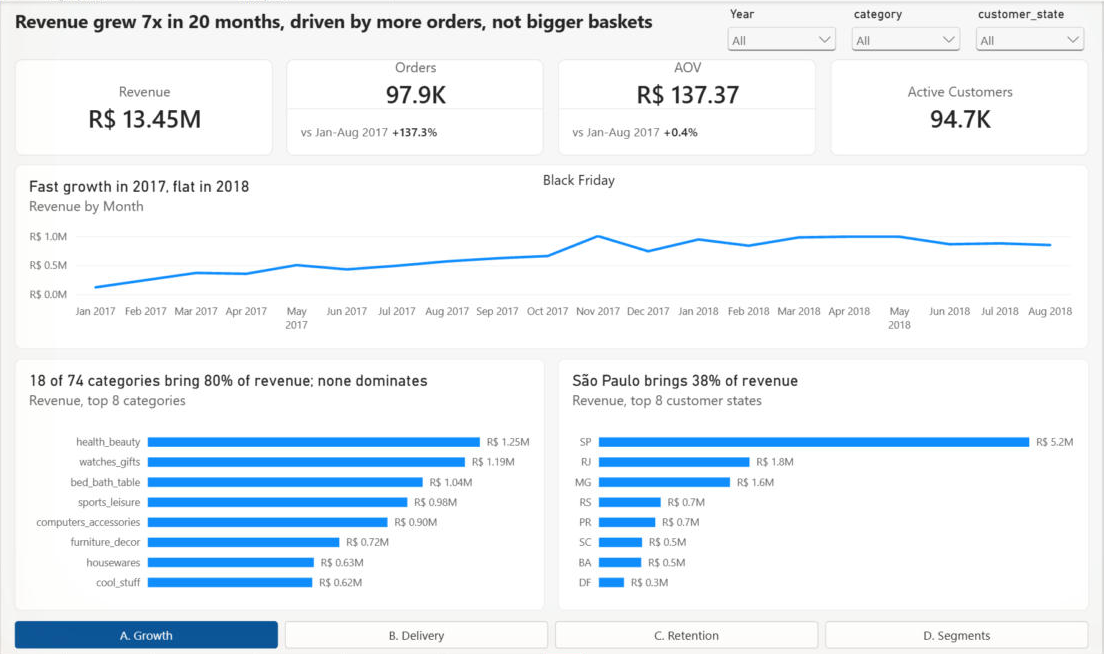

The page's visual inventory and layout, read from the dashboard file:
{"tool":"powerbi","page":{"name":"A. Growth","canvas":[1280,760],"ordinal":1},"visuals":[{"type":"textbox","box":[16,8,820,50],"z":0},{"type":"cardVisual","fields":{"Data":["_Measures.Revenue"]},"box":[15.8,67.3,300.7,112.1],"z":1000},{"type":"cardVisual","fields":{"Data":["_Measures.Orders"]},"box":[332.3,67.3,299.3,112.1],"z":2000},{"type":"cardVisual","fields":{"Data":["_Measures.AOV"]},"box":[647.5,67.3,300.7,112.1],"z":3000},{"type":"cardVisual","fields":{"Data":["_Measures.Active Customers"]},"box":[964,67.3,300.7,112.1],"z":4000},{"type":"lineChart","title":"Fast growth in 2017, flat in 2018","fields":{"Category":["DimDate.Month"],"Y":["_Measures.Revenue"]},"box":[15.8,189.9,1248,214],"z":5000},{"type":"textbox","box":[630,196,110,32],"z":6000},{"type":"clusteredBarChart","title":"18 of 74 categories bring 80% of revenue; none dominates","fields":{"Category":["vw_order_items.category"],"Y":["_Measures.Revenue"]},"box":[15.8,415.4,615.8,292.8],"z":7000},{"type":"clusteredBarChart","title":"São Paulo brings 38% of revenue","fields":{"Category":["vw_order_items.customer_state"],"Y":["_Measures.Revenue"]},"box":[647.5,415.4,617.1,292.8],"z":8000},{"type":"slicer","fields":{"Values":["DimDate.Year"]},"box":[840,6,136,52],"z":9000},{"type":"slicer","fields":{"Values":["vw_order_items.category"]},"box":[984,6,136,52],"z":10000},{"type":"slicer","fields":{"Values":["vw_order_items.customer_state"]},"box":[1128,6,136,52],"z":11000},{"type":"pageNavigator","box":[16,720,1248,32],"z":11001}]}

Visuals, with their boxes in screenshot pixels (x1, y1, x2, y2), scaled from the page's 1280x760 canvas onto the 1104x654 screenshot:
textbox: (14,7,721,50)
cardVisual - _Measures.Revenue: (14,58,273,154)
cardVisual - _Measures.Orders: (287,58,545,154)
cardVisual - _Measures.AOV: (558,58,818,154)
cardVisual - _Measures.Active Customers: (831,58,1091,154)
"Fast growth in 2017, flat in 2018" lineChart: (14,163,1090,348)
textbox: (543,169,638,196)
"18 of 74 categories bring 80% of revenue; none dominates" clusteredBarChart: (14,357,545,609)
"São Paulo brings 38% of revenue" clusteredBarChart: (558,357,1091,609)
slicer - DimDate.Year: (724,5,842,50)
slicer - vw_order_items.category: (849,5,966,50)
slicer - vw_order_items.customer_state: (973,5,1090,50)
pageNavigator: (14,620,1090,647)
